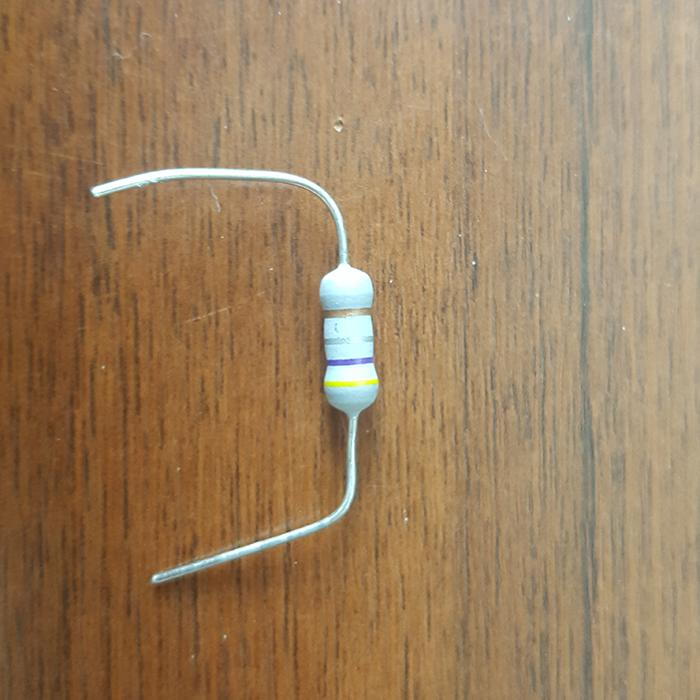resistor: (318, 262, 379, 417)
